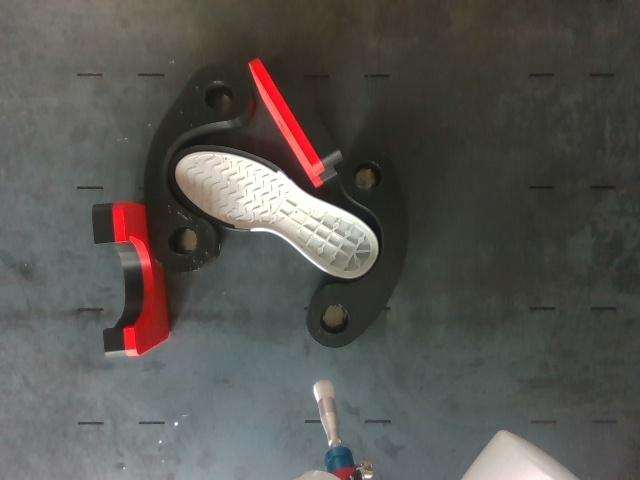shoes: (170, 146, 378, 278)
